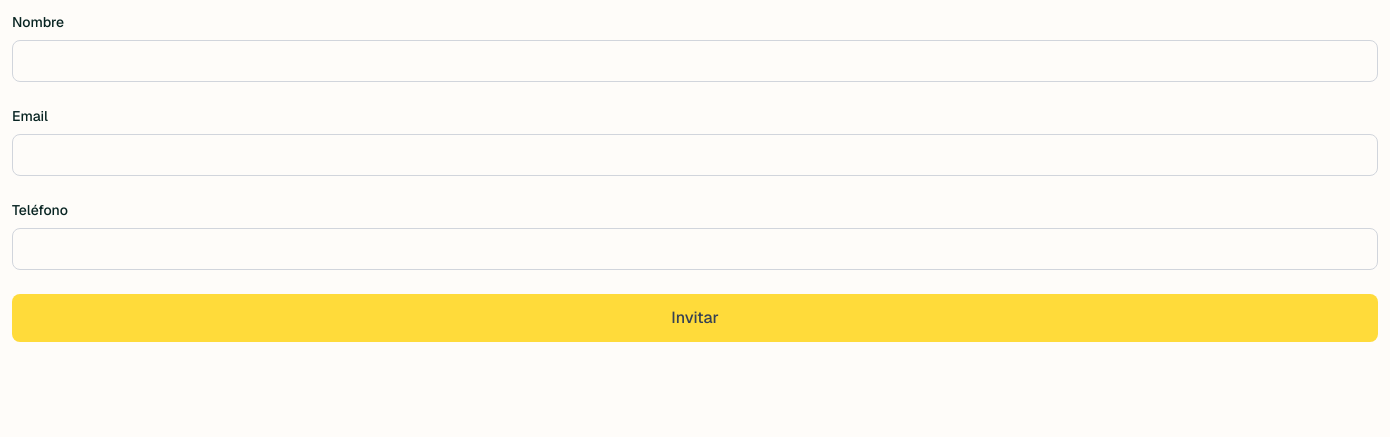
ReferralForm › should clear submit error when form is submitted again
Type "John Doe" into the field labelled "Nombre" at [695, 61], box [12, 40, 1378, 82]
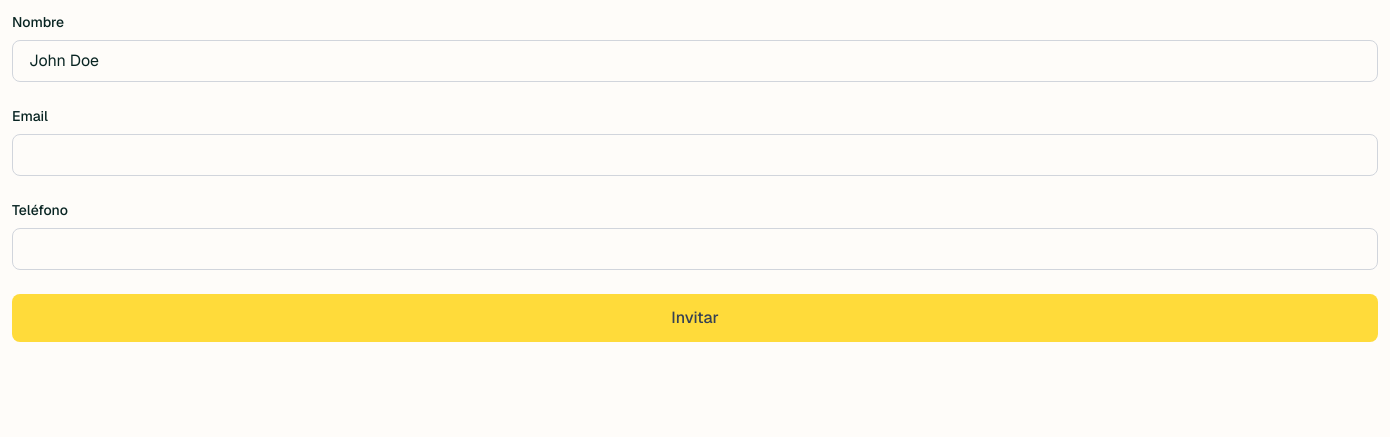
Type "john@example.com" into the field labelled "Email" at [695, 155], box [12, 134, 1378, 176]
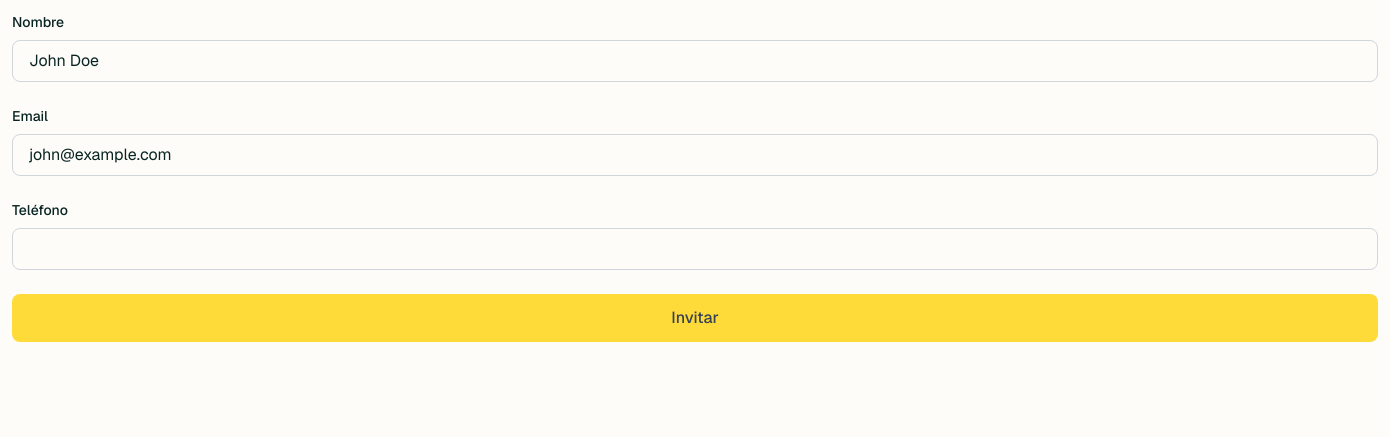
Type "+1234567890" into the field labelled "Teléfono" at [695, 249], box [12, 228, 1378, 270]
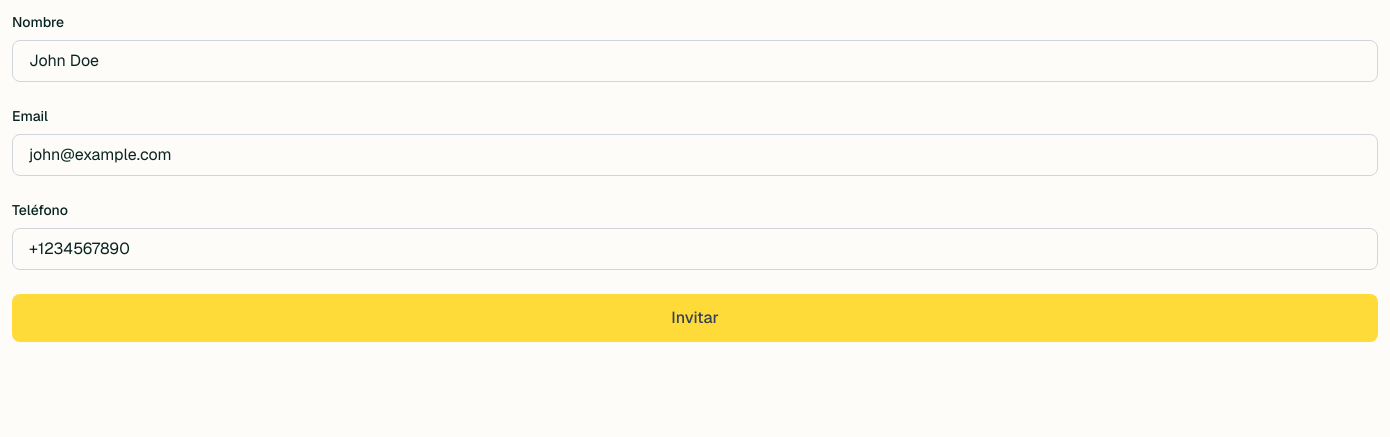
Submit the form labelled "Nombre"
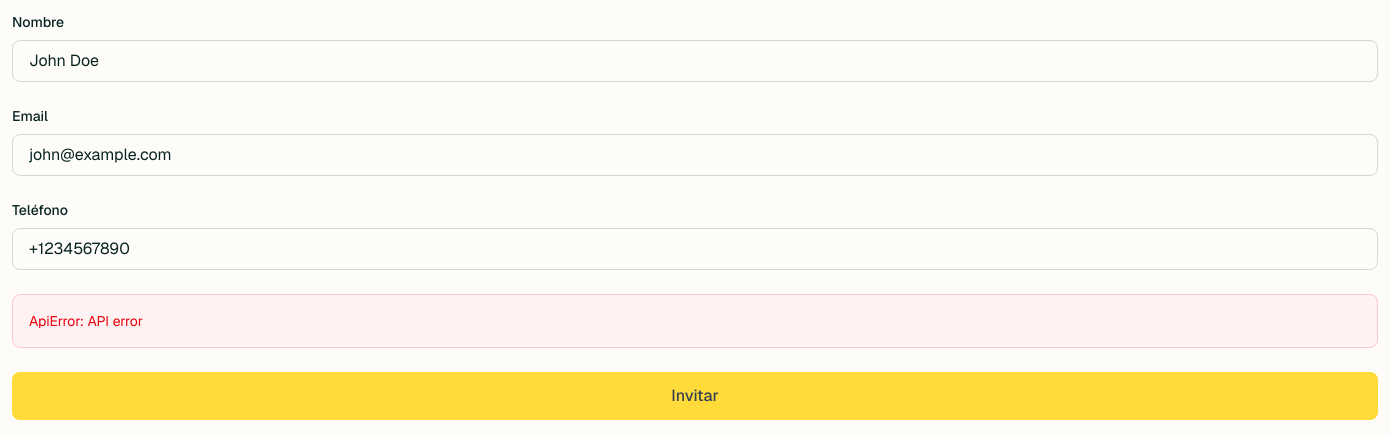
Now the text "ApiError: API error" is shown, box [29, 312, 143, 330]
Submit the form labelled "Nombre"
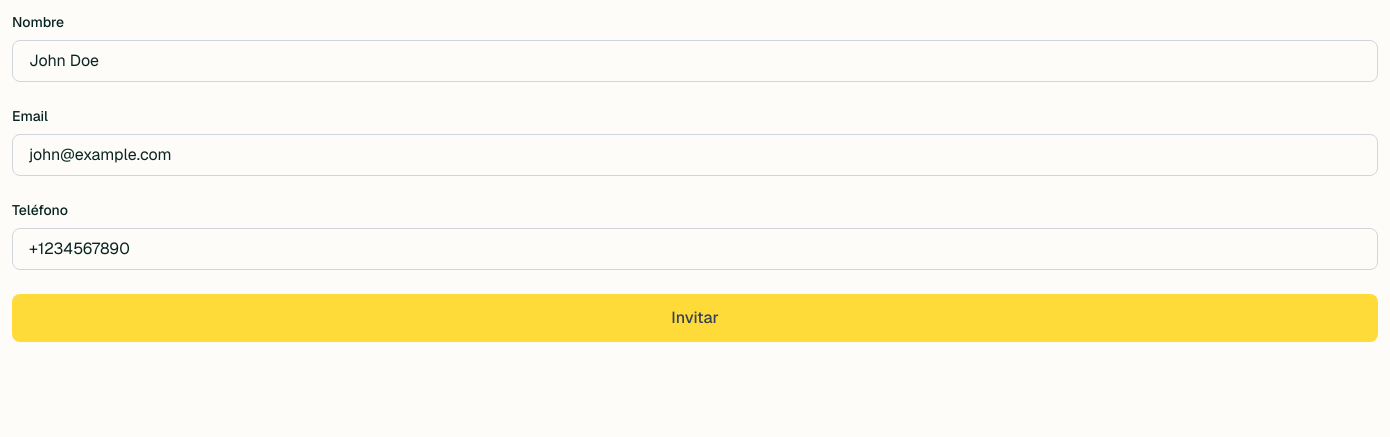
Now the text "ApiError: API error" is gone
